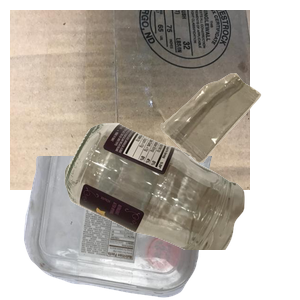cardboard: (10, 10, 250, 190)
glass: (62, 120, 300, 300)
plastic: (21, 156, 226, 300)
trash: (158, 71, 300, 227)
